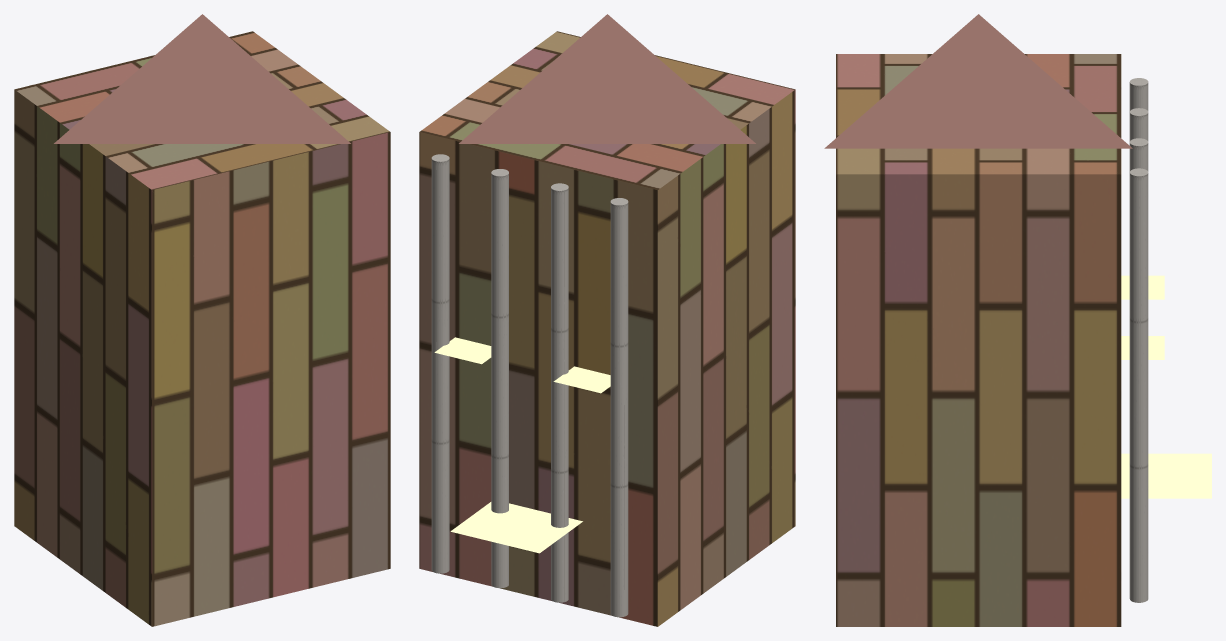
The model's file is city_hall.glb.
3 views of the same model, side by side, from view 1: azimuth 30°, elevation 25°; view 2: azimuth 150°, elevation 25°; view 3: azimuth 270°, elevation 25° (orthographic). The views are drawn at different scales.
Parts seen in each view (by area): view 1: body, pediment; view 2: body, pediment, pillar, pillar.003, pillar.001, pillar.002, door, window.001, window; view 3: body, pediment, pillar.003, door, window, window.001, pillar, pillar.001, pillar.002.
Boxes of the visible parts, x1,y1,x2,y2 form: body: [14, 31, 390, 626]; pediment: [54, 14, 350, 143]; body: [419, 31, 795, 626]; pediment: [459, 14, 755, 143]; pillar: [610, 198, 628, 617]; pillar.003: [431, 154, 449, 573]; pillar.001: [551, 183, 568, 602]; pillar.002: [491, 169, 508, 588]; door: [450, 502, 582, 553]; window.001: [434, 337, 491, 364]; window: [553, 366, 610, 393]; body: [836, 54, 1121, 626]; pediment: [824, 14, 1132, 148]; pillar.003: [1129, 168, 1148, 602]; door: [1121, 453, 1211, 498]; window: [1121, 275, 1164, 299]; window.001: [1121, 336, 1164, 359]; pillar: [1129, 78, 1148, 111]; pillar.001: [1129, 108, 1148, 141]; pillar.002: [1129, 138, 1148, 171].
Size of the model in its own units: 4.5 by 8.55 by 5.44.
Materials: 5 (2 with a texture image).
